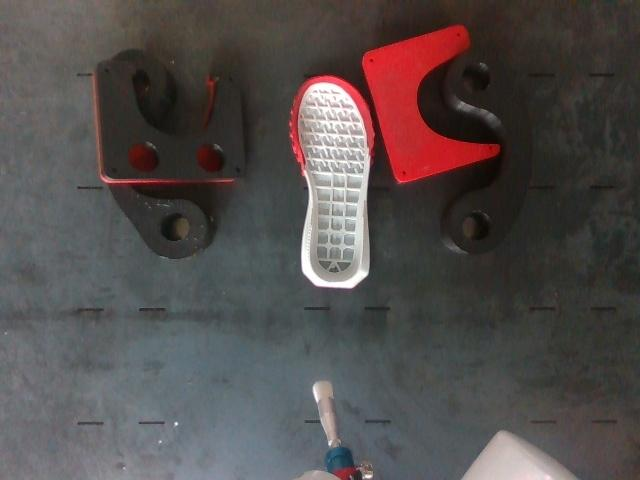shoes: (294, 77, 371, 283)
